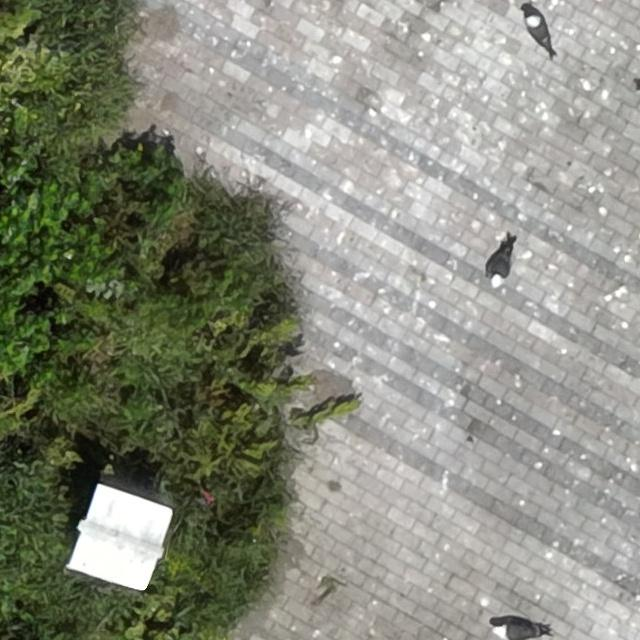umineko: (490, 248, 512, 284), (528, 15, 550, 49), (495, 622, 536, 638)
